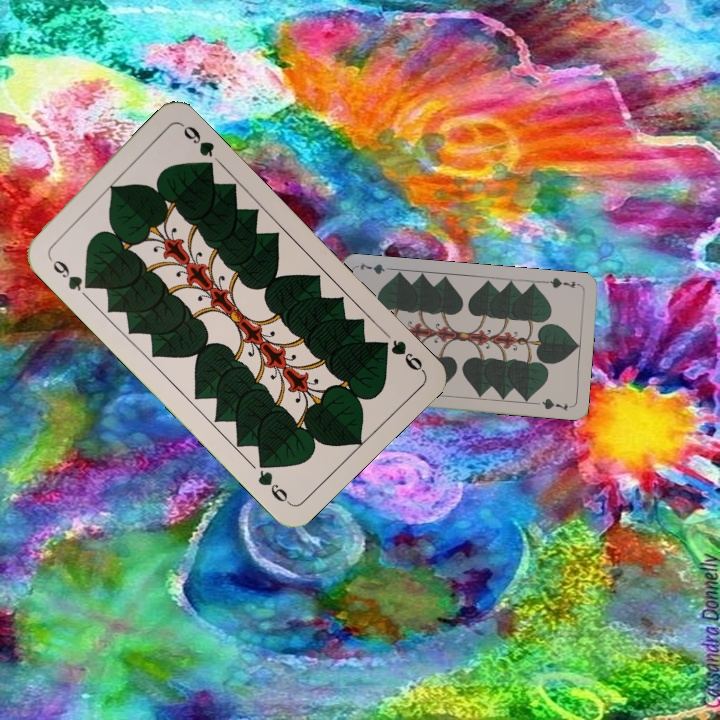G7: (542, 274, 582, 291)
G9: (44, 251, 95, 294), (373, 336, 427, 374)
